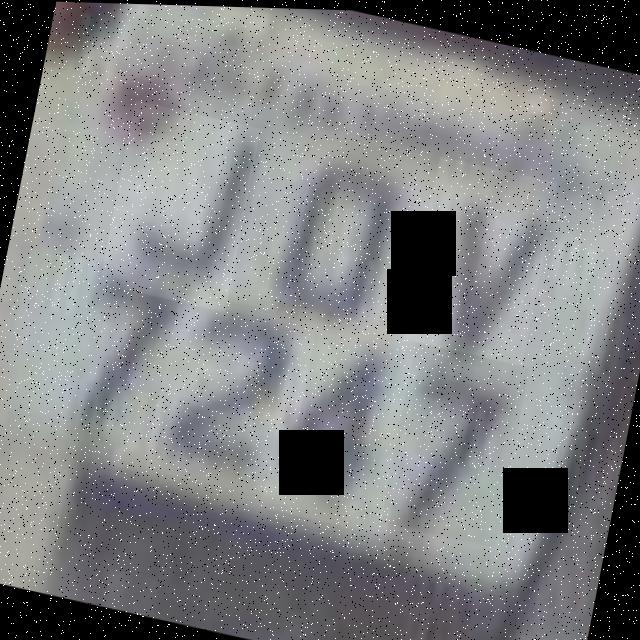2: (145, 292, 317, 499)
4: (261, 306, 425, 534)
7: (41, 261, 197, 484), (380, 339, 530, 546)
J: (100, 99, 260, 312)
V: (404, 153, 558, 363)
